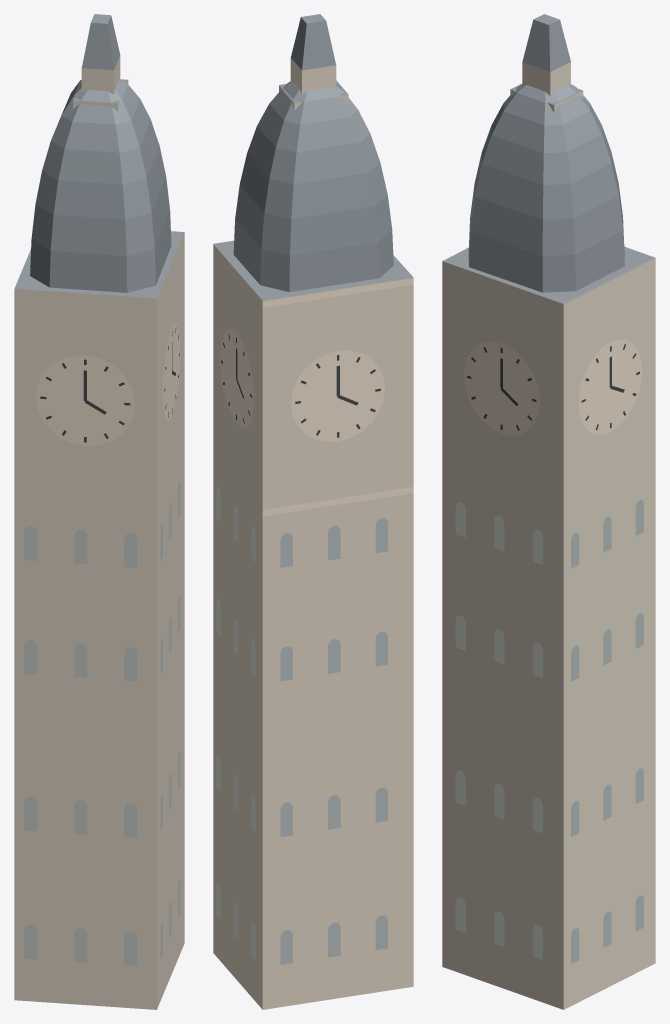
The model's file is detail.glb.
3 views of the same model, side by side, from view 1: azimuth 30°, elevation 25°; view 2: azimuth 150°, elevation 25°; view 3: azimuth 270°, elevation 25° (orthographic).
Visible parts, largest first — view 1: stone, roof, trim, window, recess; view 2: stone, roof, trim, window, recess; view 3: stone, roof, trim, window, recess.
Part boxes in pixels (x1,y1,x2,y2): stone: (14,56,184,1009); roof: (14,14,184,298); trim: (36,322,180,446); window: (24,482,180,965); recess: (40,327,179,442); stone: (213,58,413,1009); roof: (213,14,413,300); trim: (220,278,413,516); window: (216,485,387,964); recess: (221,334,380,437); stone: (442,61,655,1009); roof: (443,14,654,303); trim: (464,339,642,435); window: (455,500,643,963); recess: (467,344,639,430).
Bounding box in the file's own units: 13.66 × 67 × 13.68.
